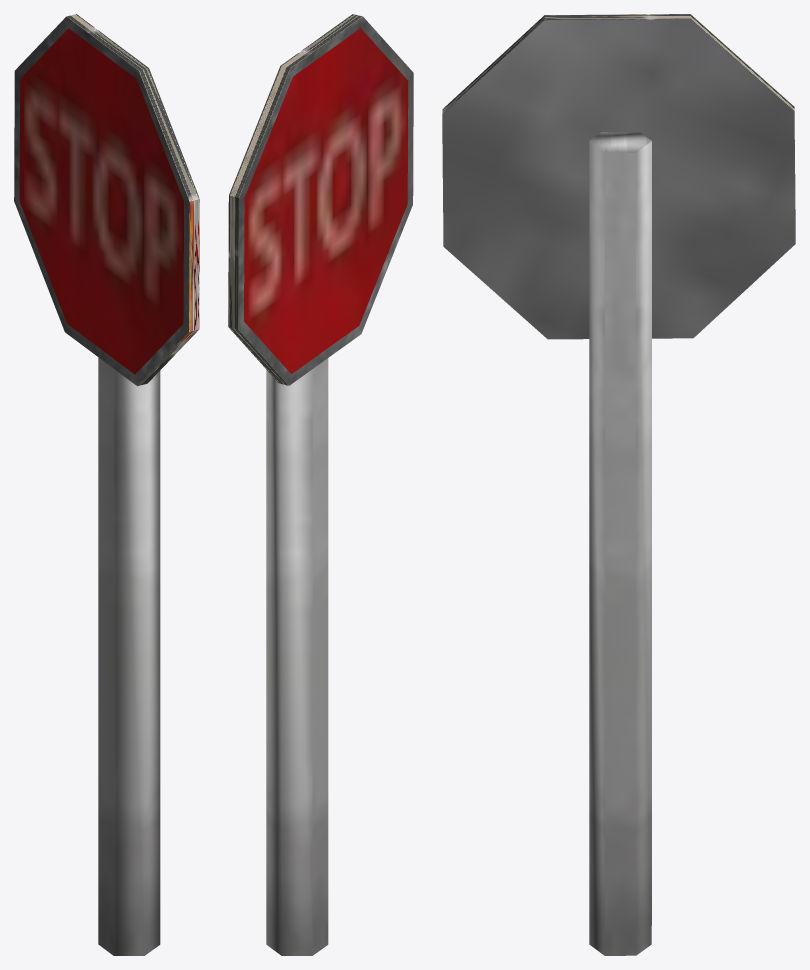
The model's file is sign-stop-modular.glb.
3 views of the same model, side by side, from view 1: azimuth 30°, elevation 25°; view 2: azimuth 150°, elevation 25°; view 3: azimuth 270°, elevation 25° (orthographic).
Visible parts, largest first — view 1: _gltfNode_90_86; view 2: _gltfNode_90_86; view 3: _gltfNode_90_86.
Boxes of the visible parts, left/top/right/bottom form: _gltfNode_90_86: left=14, top=14, right=199, bottom=955; _gltfNode_90_86: left=228, top=14, right=413, bottom=955; _gltfNode_90_86: left=442, top=14, right=795, bottom=955.
Size of the model in its own units: 0.1409 by 2.38 by 0.8312.
1 material, 1 textured.
